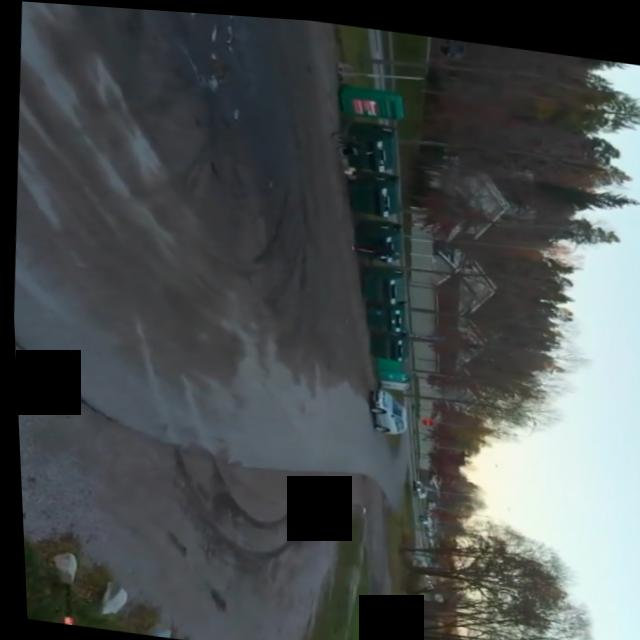Vehicle: (351, 378, 414, 432)
